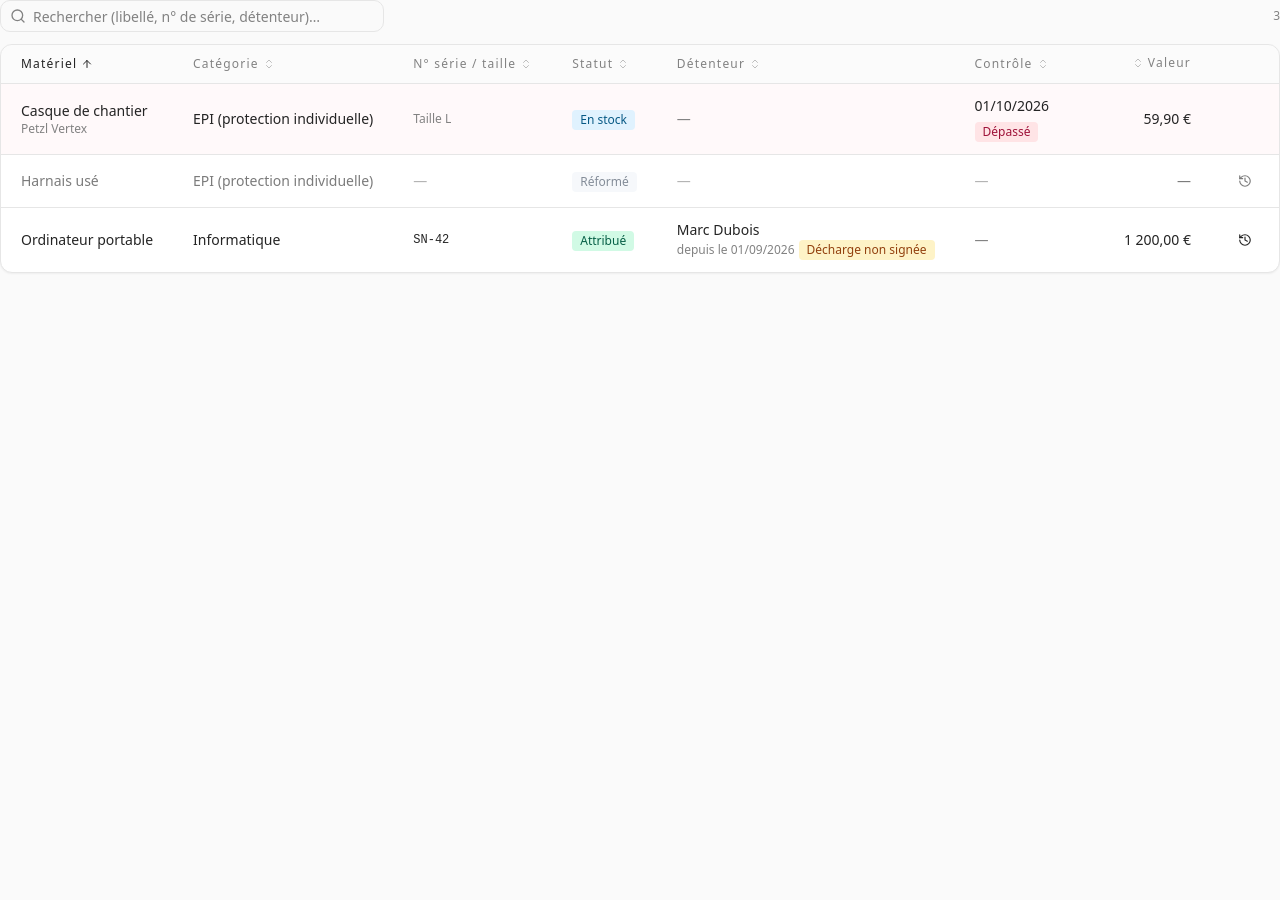
InventaireMateriel › affiche l’historique des attributions
The width and height of the screenshot is (1280, 900).
What coordinates should you click on to do the following:
click the button named "historique"
I would click on:
 (1245, 181)
Its box is [1231, 167, 1259, 195].
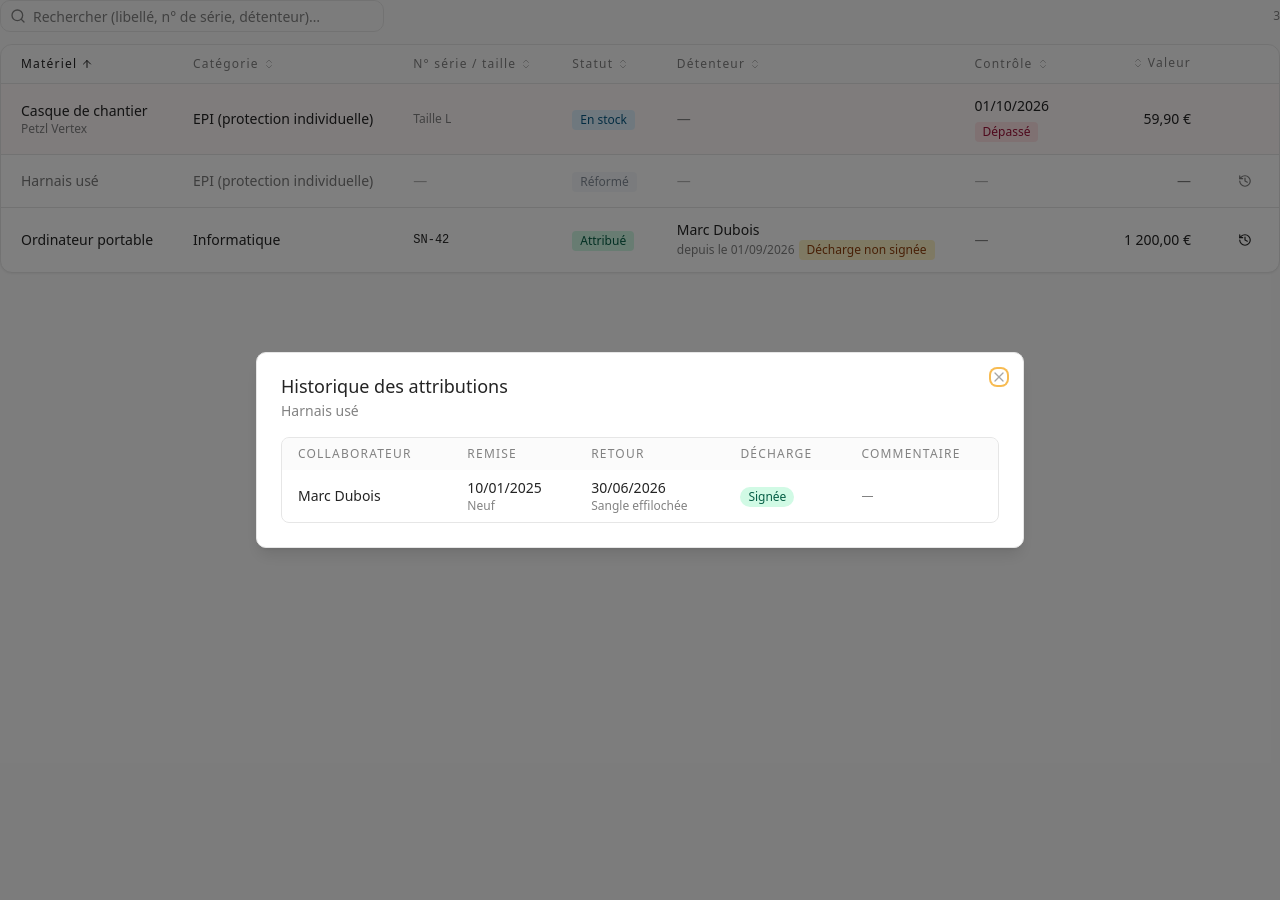
Now the heading "Historique des attributions" is shown, box [281, 374, 508, 398]
Now the text "Sangle effilochée" is shown, box [591, 497, 688, 514]
Now the text "Signée" is shown, box [740, 486, 794, 506]
